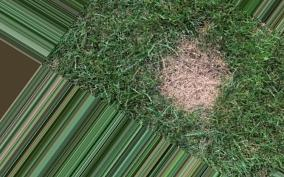patch: (172, 53, 216, 109)
